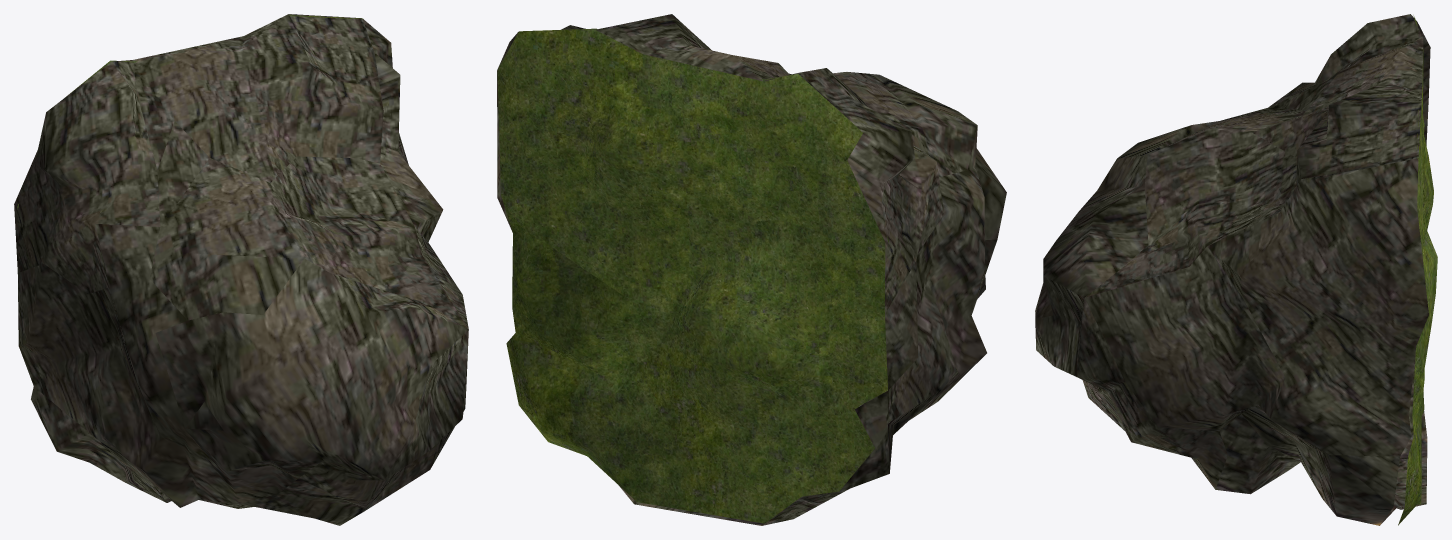
File: MEP_F_Isle Jungle (1).fbx
3 views of the same model, side by side, from view 1: azimuth 30°, elevation 25°; view 2: azimuth 150°, elevation 25°; view 3: azimuth 270°, elevation 25° (orthographic). The views are drawn at different scales.
Parts seen in each view (by area): view 1: MEP_F_Isle_01; view 2: MEP_F_Isle_top, MEP_F_Isle_01; view 3: MEP_F_Isle_01, MEP_F_Isle_top.
Part boxes in pixels (x1,y1,x2,y2): MEP_F_Isle_01: (14, 14, 468, 525); MEP_F_Isle_top: (497, 28, 889, 523); MEP_F_Isle_01: (497, 14, 1006, 525); MEP_F_Isle_01: (1035, 14, 1430, 525); MEP_F_Isle_top: (1398, 15, 1437, 525).
Size of the model in its own units: 5493 by 6023 by 5210.
Materials: 2 (2 with a texture image).
